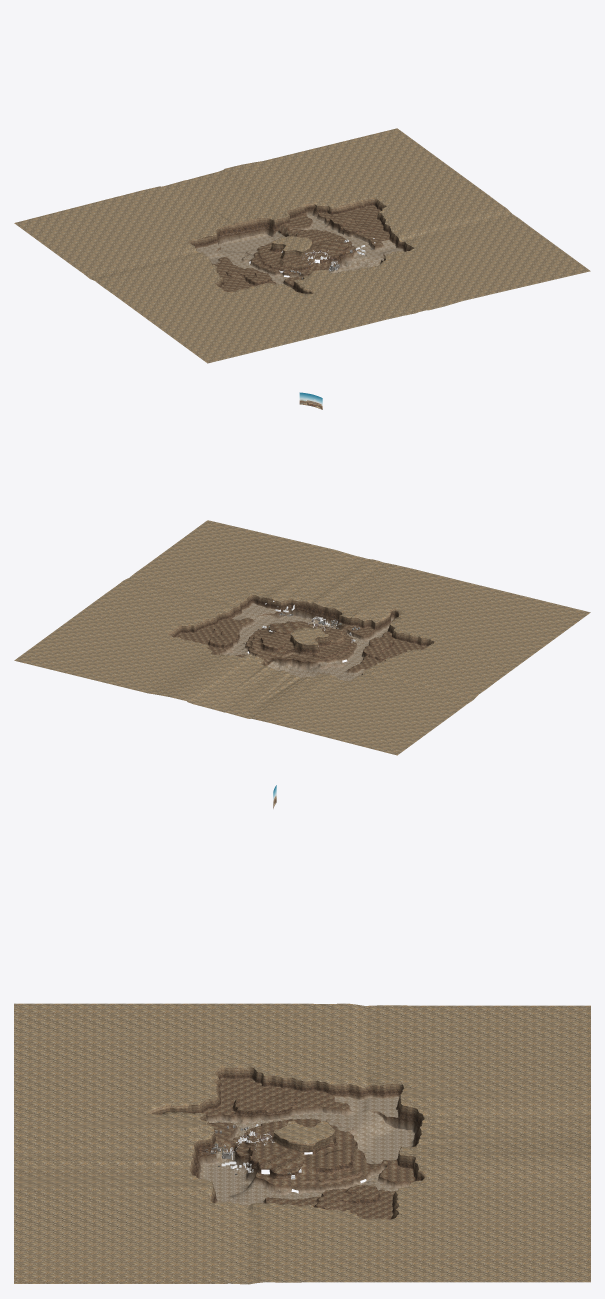
The picture shows the model from 3 angles, top to bottom: view 1: azimuth 30°, elevation 25°; view 2: azimuth 150°, elevation 25°; view 3: azimuth 270°, elevation 25°; orthographic projection. The views are drawn at different scales.
Parts seen in each view (by area): view 1: F01_00_scene; view 2: F01_00_scene; view 3: F01_00_scene.
Part boxes in pixels (left/top/right/bottom): F01_00_scene: left=14, top=128, right=590, bottom=363; F01_00_scene: left=14, top=392, right=590, bottom=755; F01_00_scene: left=14, top=785, right=590, bottom=1284.
Bounding box in the file's own units: 1200 × 750 × 1050.
185 materials, 113 textured.
